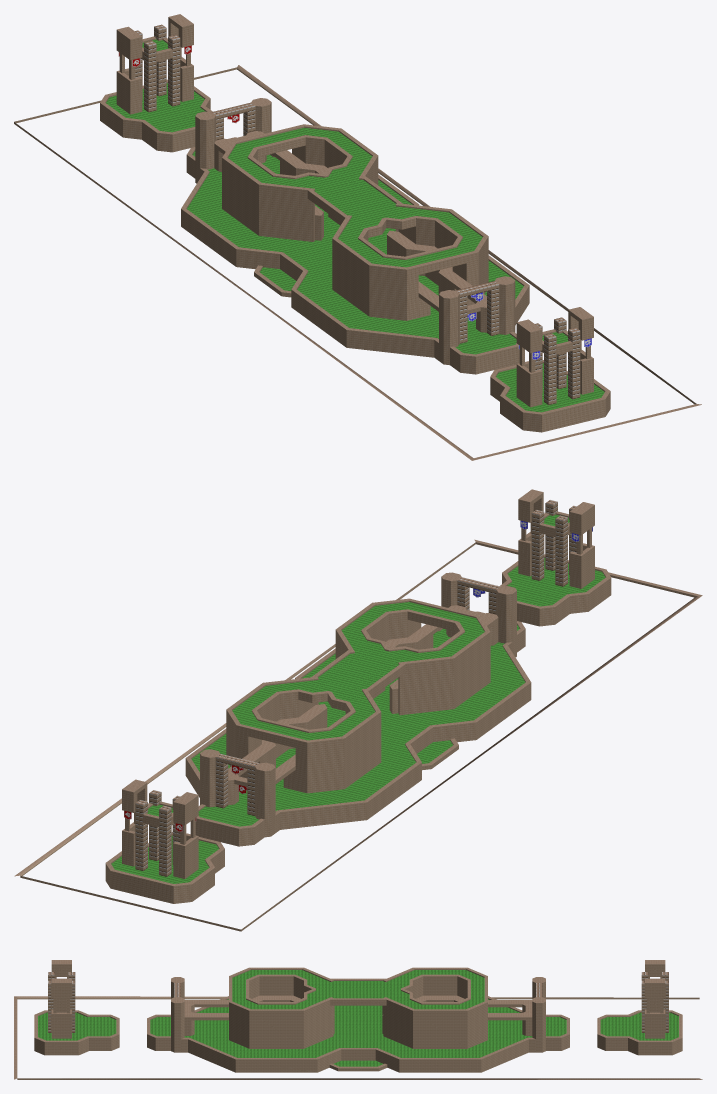
The model's file is F_CloudPalace.fbx.
3 renders of one model, top to bottom at view 1: azimuth 30°, elevation 25°; view 2: azimuth 150°, elevation 25°; view 3: azimuth 270°, elevation 25°, orthographic. The views are drawn at different scales.
Visible parts, largest first — view 1: MAP82; view 2: MAP82; view 3: MAP82.
Part boxes in pixels (left/top/right/bottom): MAP82: left=14, top=14, right=701, bottom=460; MAP82: left=14, top=489, right=702, bottom=931; MAP82: left=14, top=960, right=702, bottom=1079.
Size of the model in its own units: 90.62 by 34.38 by 316.
